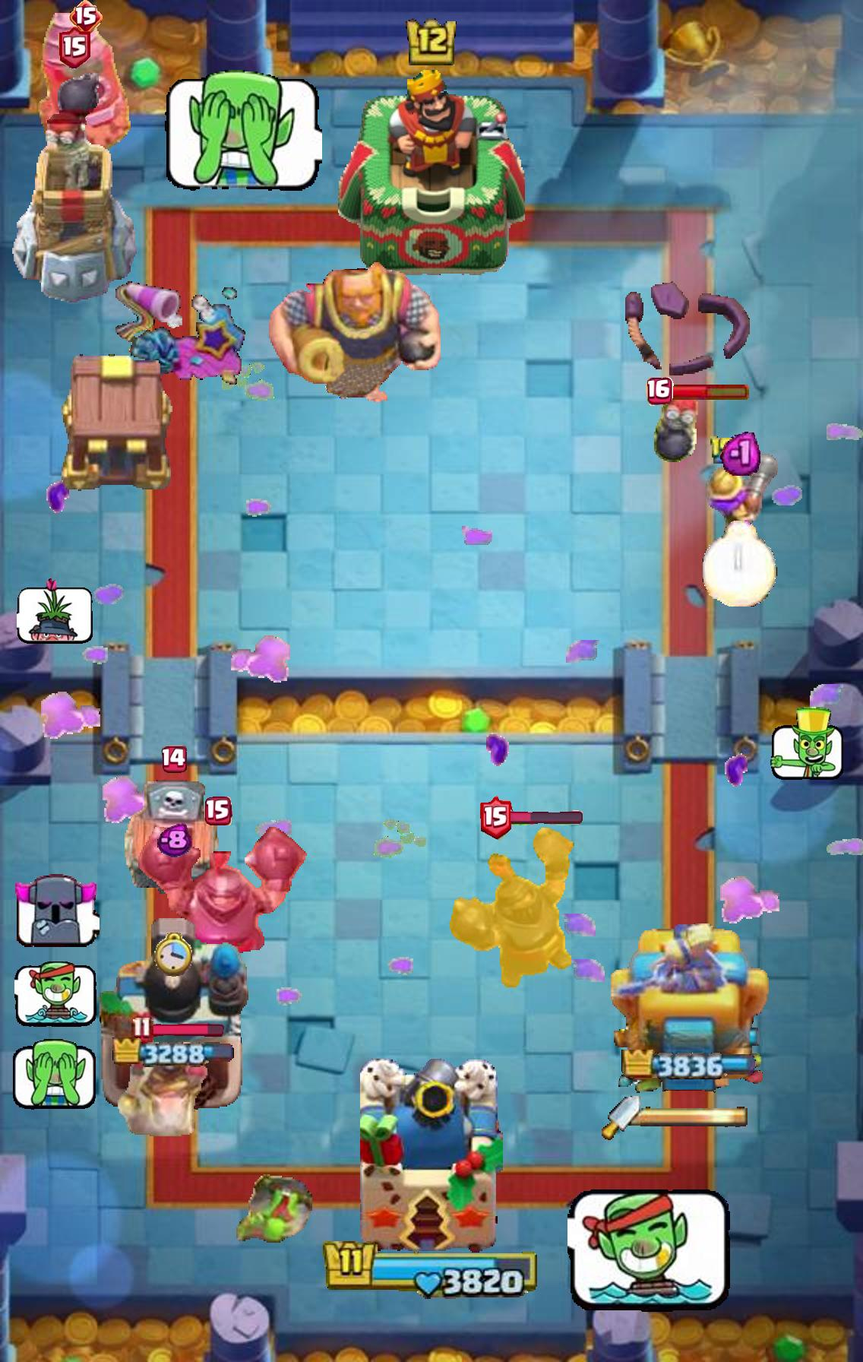bar: (669, 382, 750, 401), (150, 1023, 224, 1038), (509, 810, 582, 825)
bar-level: (480, 795, 513, 840), (58, 25, 90, 69), (68, 0, 103, 35), (645, 377, 673, 406), (205, 797, 233, 825), (161, 744, 187, 773), (131, 1015, 153, 1044)
